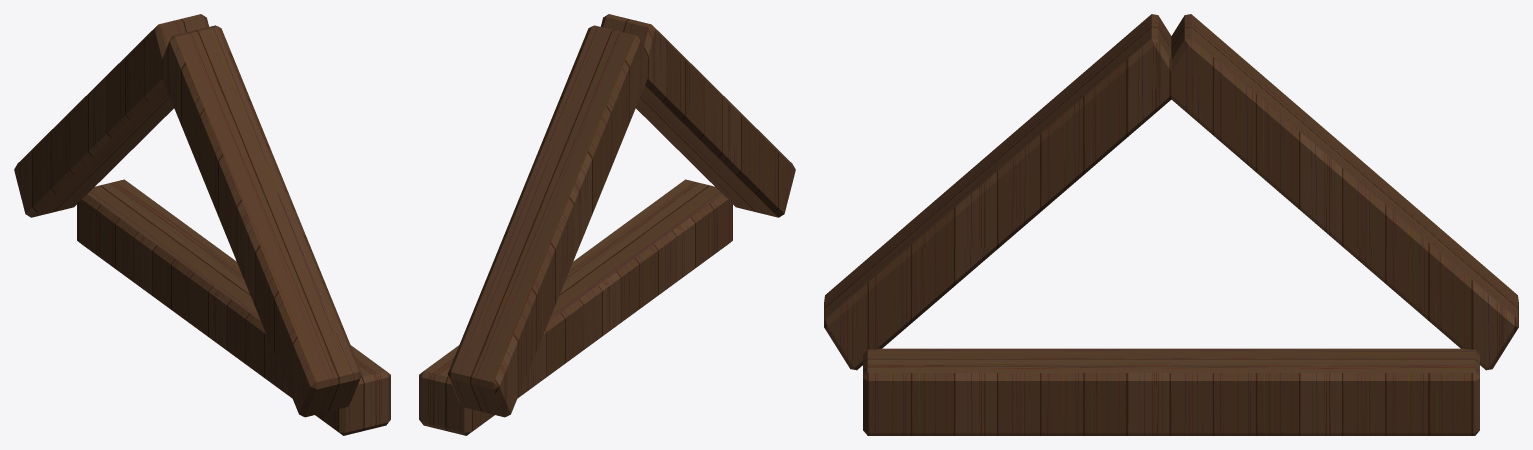
Rendered from SM_HH_V2_Timber_Entry.fbx.
The picture shows the model from 3 angles, left to right: view 1: azimuth 30°, elevation 25°; view 2: azimuth 150°, elevation 25°; view 3: azimuth 270°, elevation 25°; orthographic projection. The views are drawn at different scales.
Parts seen in each view (by area): view 1: HH_V2_Timber_Entry; view 2: HH_V2_Timber_Entry; view 3: HH_V2_Timber_Entry.
Part boxes in pixels (x1=…): HH_V2_Timber_Entry: x1=14, y1=14, x2=390, y2=435; HH_V2_Timber_Entry: x1=419, y1=14, x2=795, y2=435; HH_V2_Timber_Entry: x1=824, y1=14, x2=1518, y2=435.
Size of the model in its own units: 2.49 by 0.47 by 1.47.
